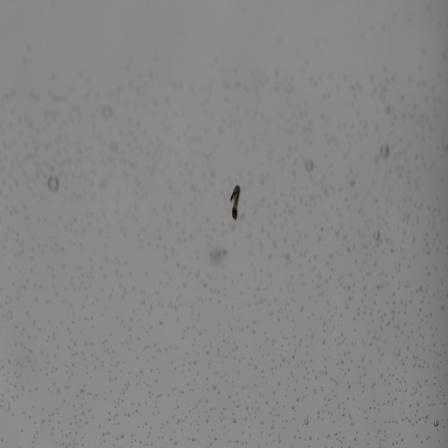Jentik-Nyamuk: (226, 180, 243, 223)
